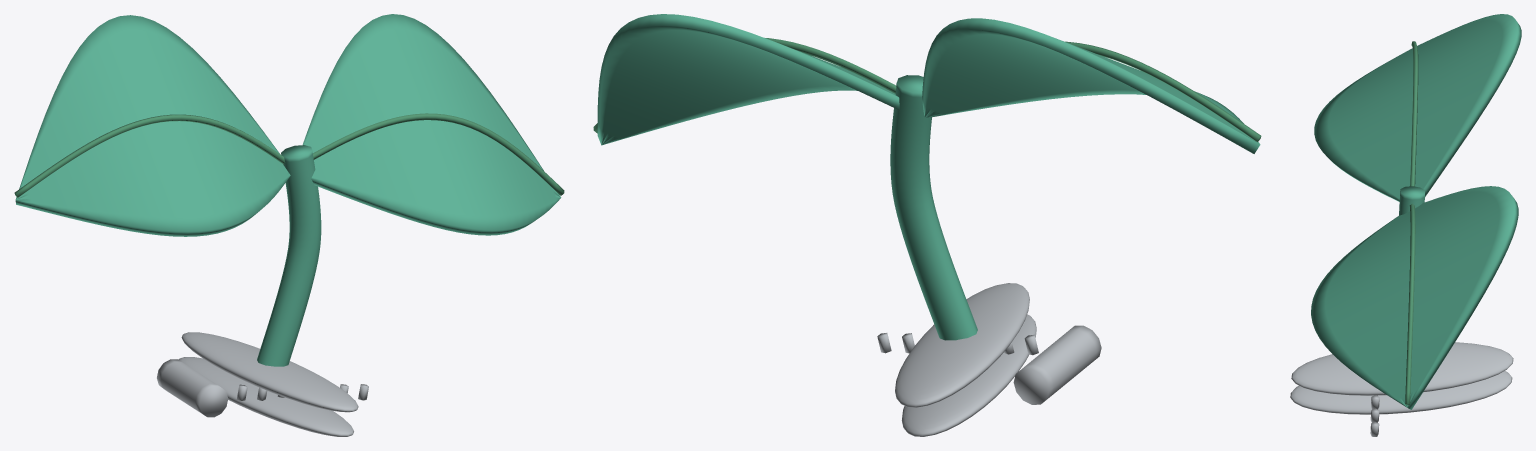
The model's file is Masculine-taper--pashmina-sprout.glb.
3 views of the same model, side by side, from view 1: azimuth 30°, elevation 25°; view 2: azimuth 150°, elevation 25°; view 3: azimuth 270°, elevation 25° (orthographic). The views are drawn at different scales.
Visible parts, largest first — view 1: 226 extra / Accessory / mint226, 226 extra / Sprout / clip silver235, 226 extra / Sprout / leaf vein235; view 2: 226 extra / Accessory / mint226, 226 extra / Sprout / clip silver235, 226 extra / Sprout / leaf vein235; view 3: 226 extra / Accessory / mint226, 226 extra / Sprout / clip silver235, 226 extra / Sprout / leaf vein235.
Boxes of the visible parts, x1=… form: 226 extra / Accessory / mint226: x1=15, y1=14, x2=561, y2=366; 226 extra / Sprout / clip silver235: x1=157, y1=332, x2=368, y2=436; 226 extra / Sprout / leaf vein235: x1=14, y1=113, x2=564, y2=197; 226 extra / Accessory / mint226: x1=597, y1=14, x2=1260, y2=340; 226 extra / Sprout / clip silver235: x1=877, y1=283, x2=1101, y2=436; 226 extra / Sprout / leaf vein235: x1=593, y1=38, x2=1261, y2=142; 226 extra / Accessory / mint226: x1=1311, y1=14, x2=1521, y2=409; 226 extra / Sprout / clip silver235: x1=1290, y1=342, x2=1513, y2=436; 226 extra / Sprout / leaf vein235: x1=1405, y1=41, x2=1418, y2=405.
Bounding box in the file's own units: 0.2651 × 0.1707 × 0.1059.
